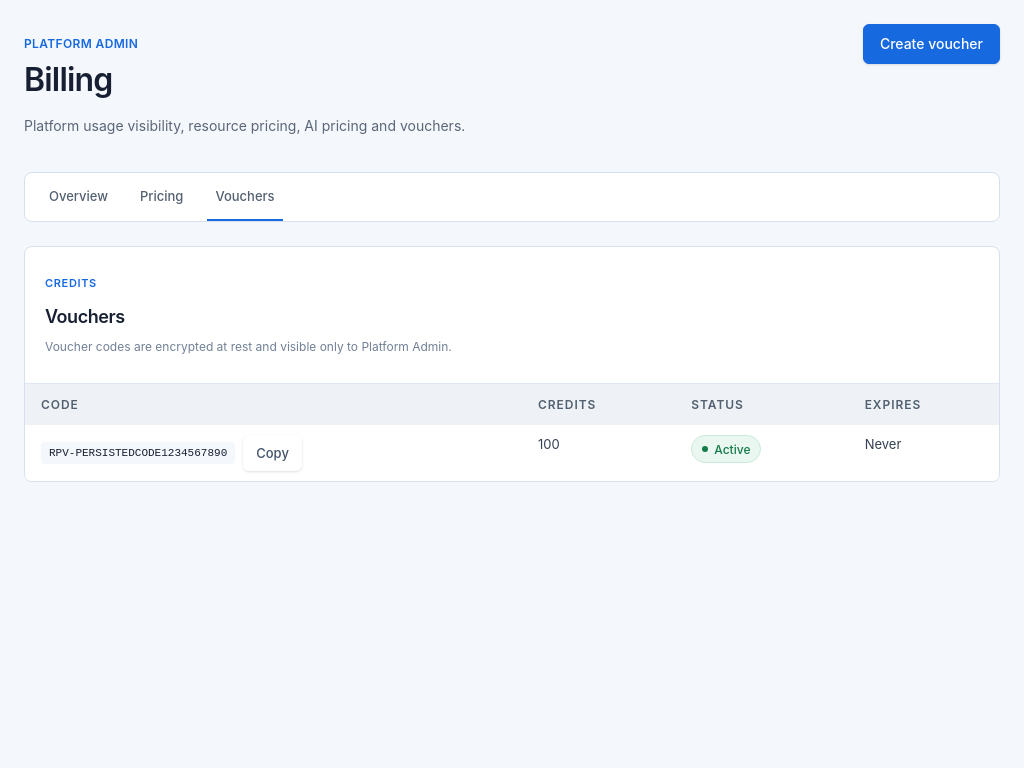
Test case: shows persistent voucher codes and captures an optional expiration date when Platform Admin creates one
Check: the text "RPV-PERSISTEDCODE1234567890" is shown, box [41,442,235,464]
Check: the column heading "Code" is shown, box [25,384,522,425]
Click the button "Create voucher": {"x": 931, "y": 44} [863,24,1000,64]
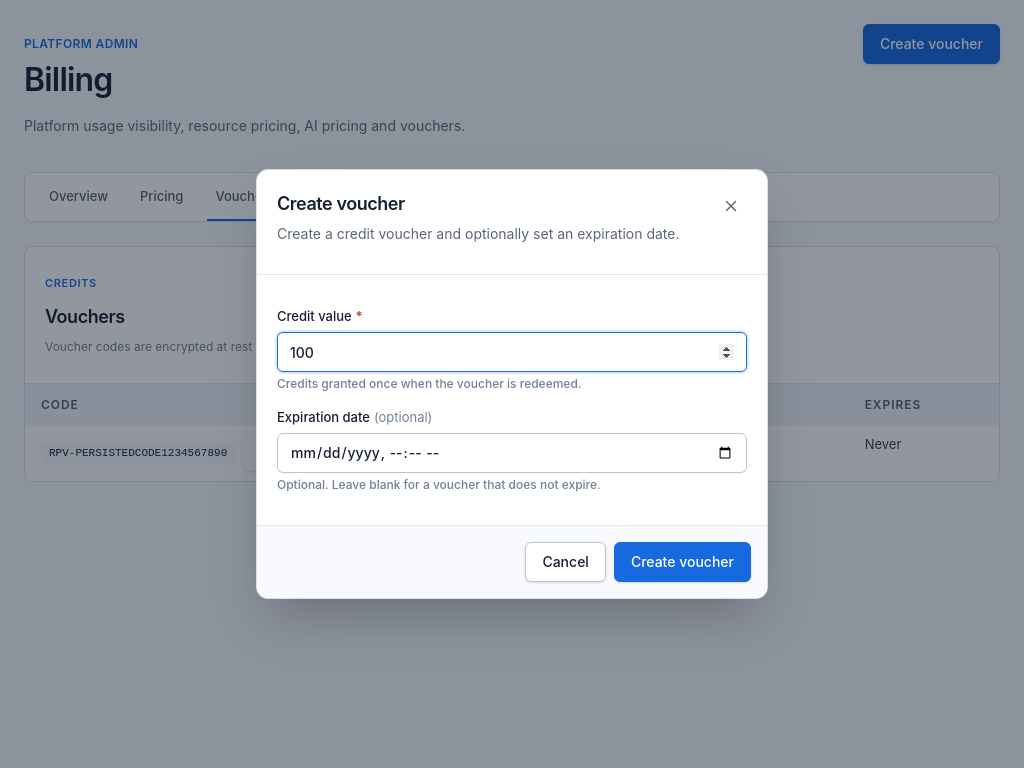
Check: the field labelled "Expiration date" is shown, box [277,433,747,473]
Replace the text in the number field labelled "Credit value" with "250": {"x": 512, "y": 352} [277,332,747,372]
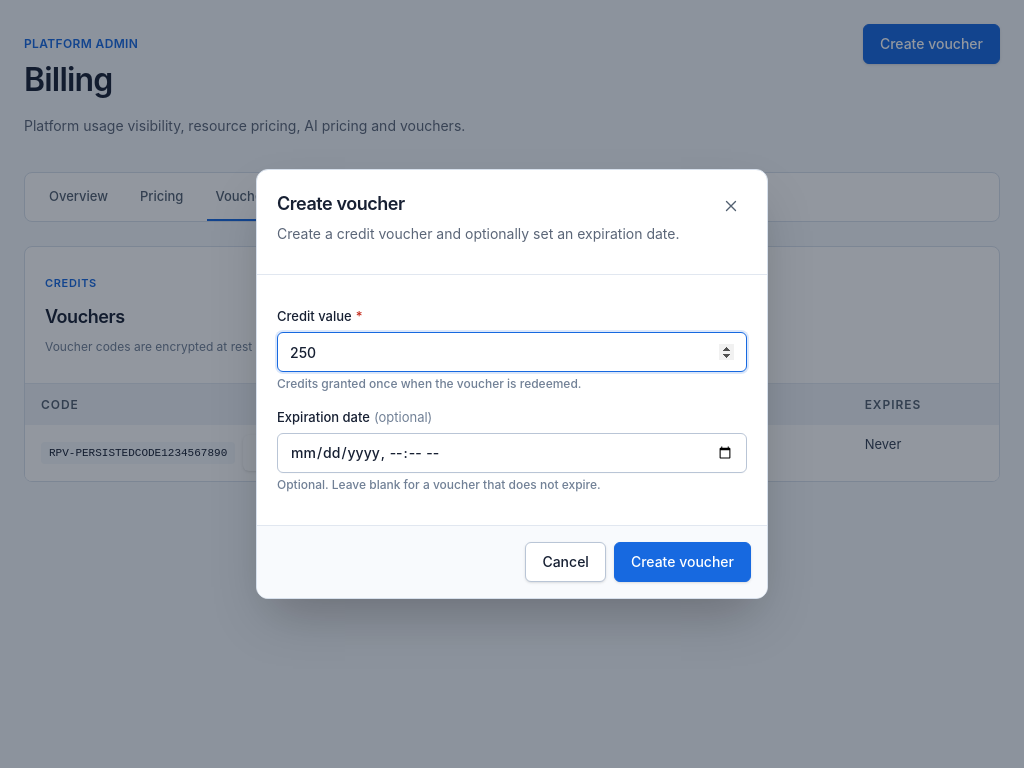
In the field labelled "Expiration date": {"x": 512, "y": 453} [277,433,747,473], type "2026-10-01T12:30"
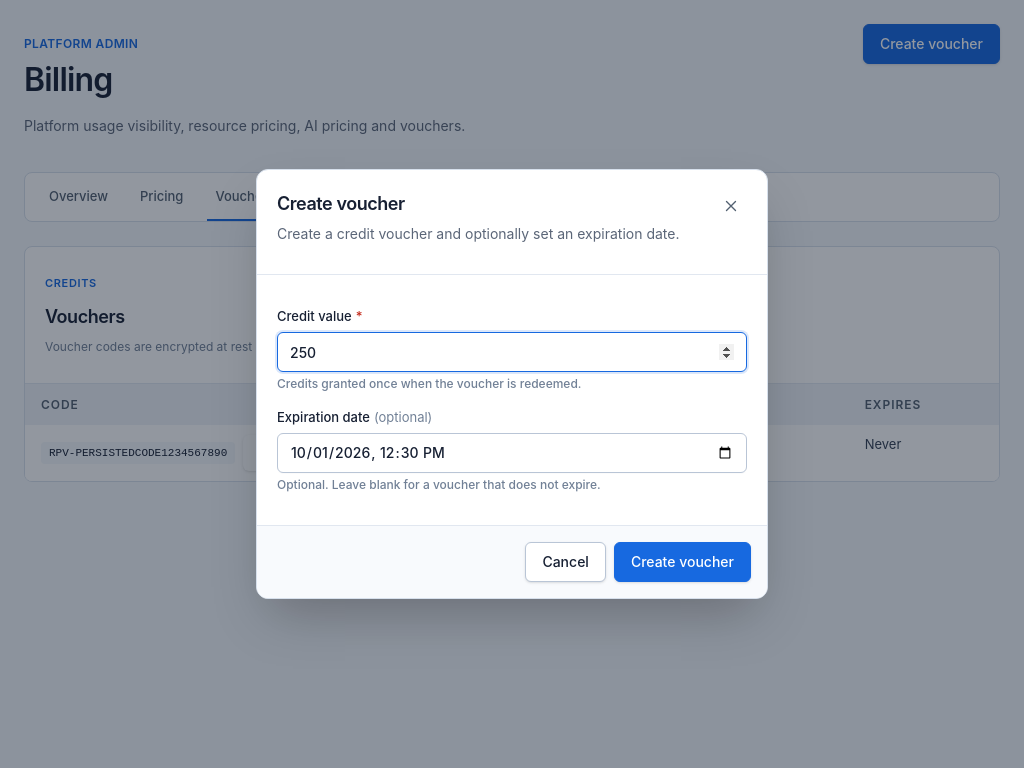
Click the button "Create voucher": {"x": 682, "y": 562} [614,542,751,582]
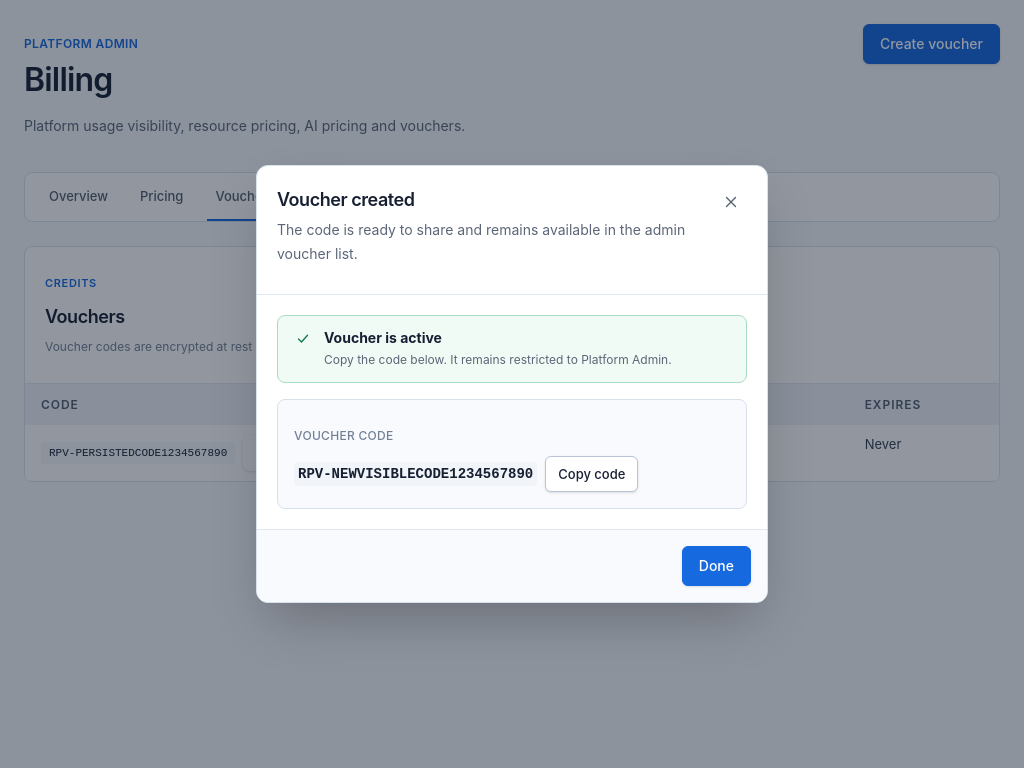
Check: the heading "Voucher created" is shown, box [277,189,415,210]
Check: the text "RPV-NEWVISIBLECODE1234567890" is shown, box [294,462,537,486]
